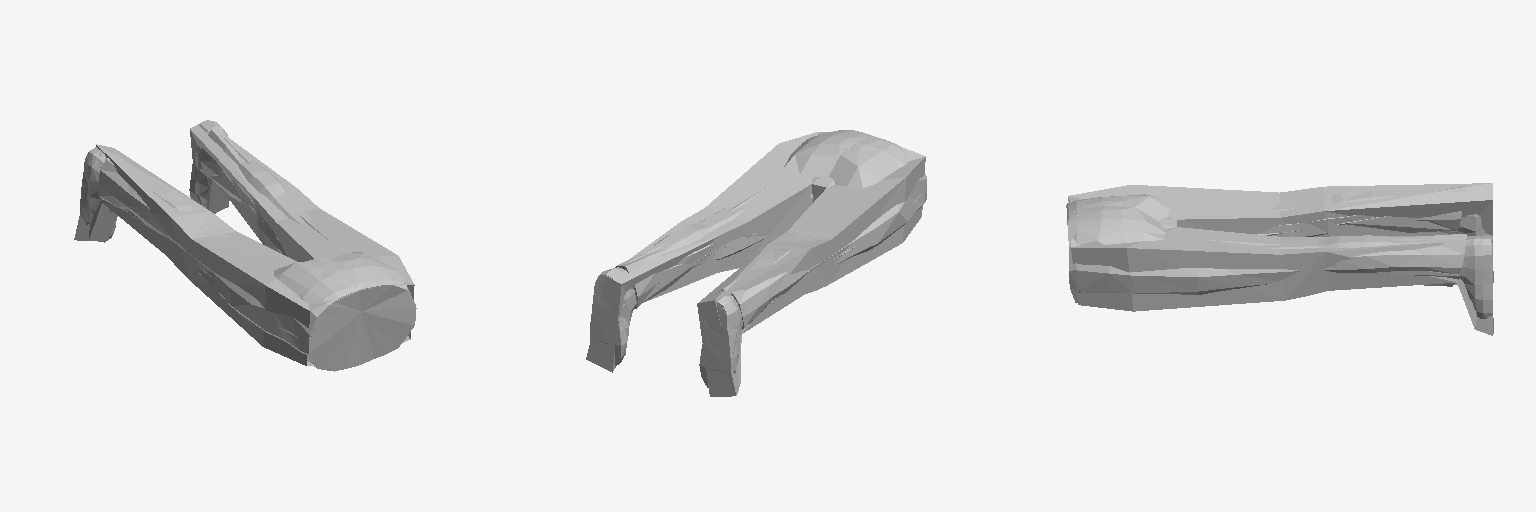
File: lowr_002_r.obj
3 renders of one model, left to right at view 1: azimuth 30°, elevation 25°; view 2: azimuth 150°, elevation 25°; view 3: azimuth 270°, elevation 25°, orthographic.
Visible parts, largest first — view 1: lowr_002_r_low_1, lowr_002_r_high_1, lowr_002_r_med_1; view 2: lowr_002_r_low_1, lowr_002_r_high_1, lowr_002_r_med_1; view 3: lowr_002_r_low_1, lowr_002_r_high_1, lowr_002_r_med_1.
Boxes of the visible parts, box(x1,y1,x2,y2) form: lowr_002_r_low_1: box(74, 121, 414, 365); lowr_002_r_high_1: box(80, 120, 416, 369); lowr_002_r_med_1: box(80, 124, 401, 371); lowr_002_r_low_1: box(586, 132, 925, 396); lowr_002_r_high_1: box(590, 130, 926, 387); lowr_002_r_med_1: box(592, 136, 921, 387); lowr_002_r_low_1: box(1068, 183, 1493, 335); lowr_002_r_high_1: box(1066, 186, 1492, 318); lowr_002_r_med_1: box(1066, 204, 1492, 286).
Size of the model in its own units: 0.4272 by 0.2744 by 1.05.